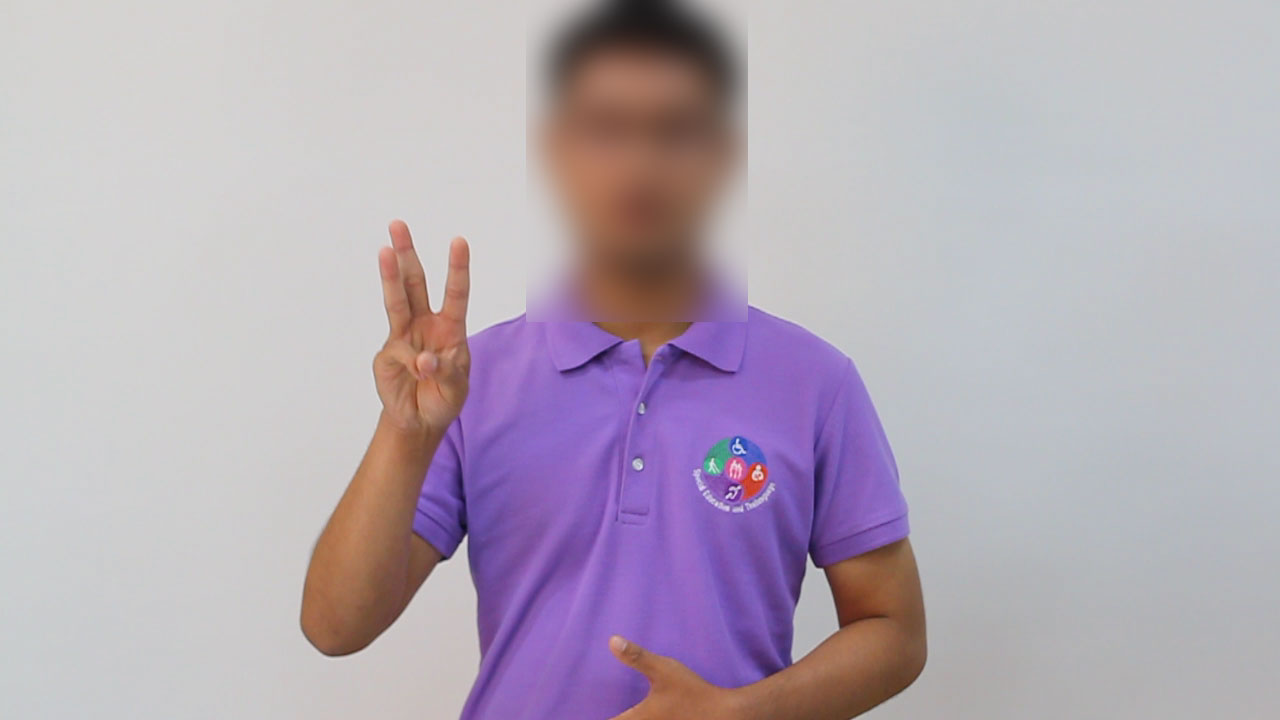wor: (364, 210, 479, 442)
